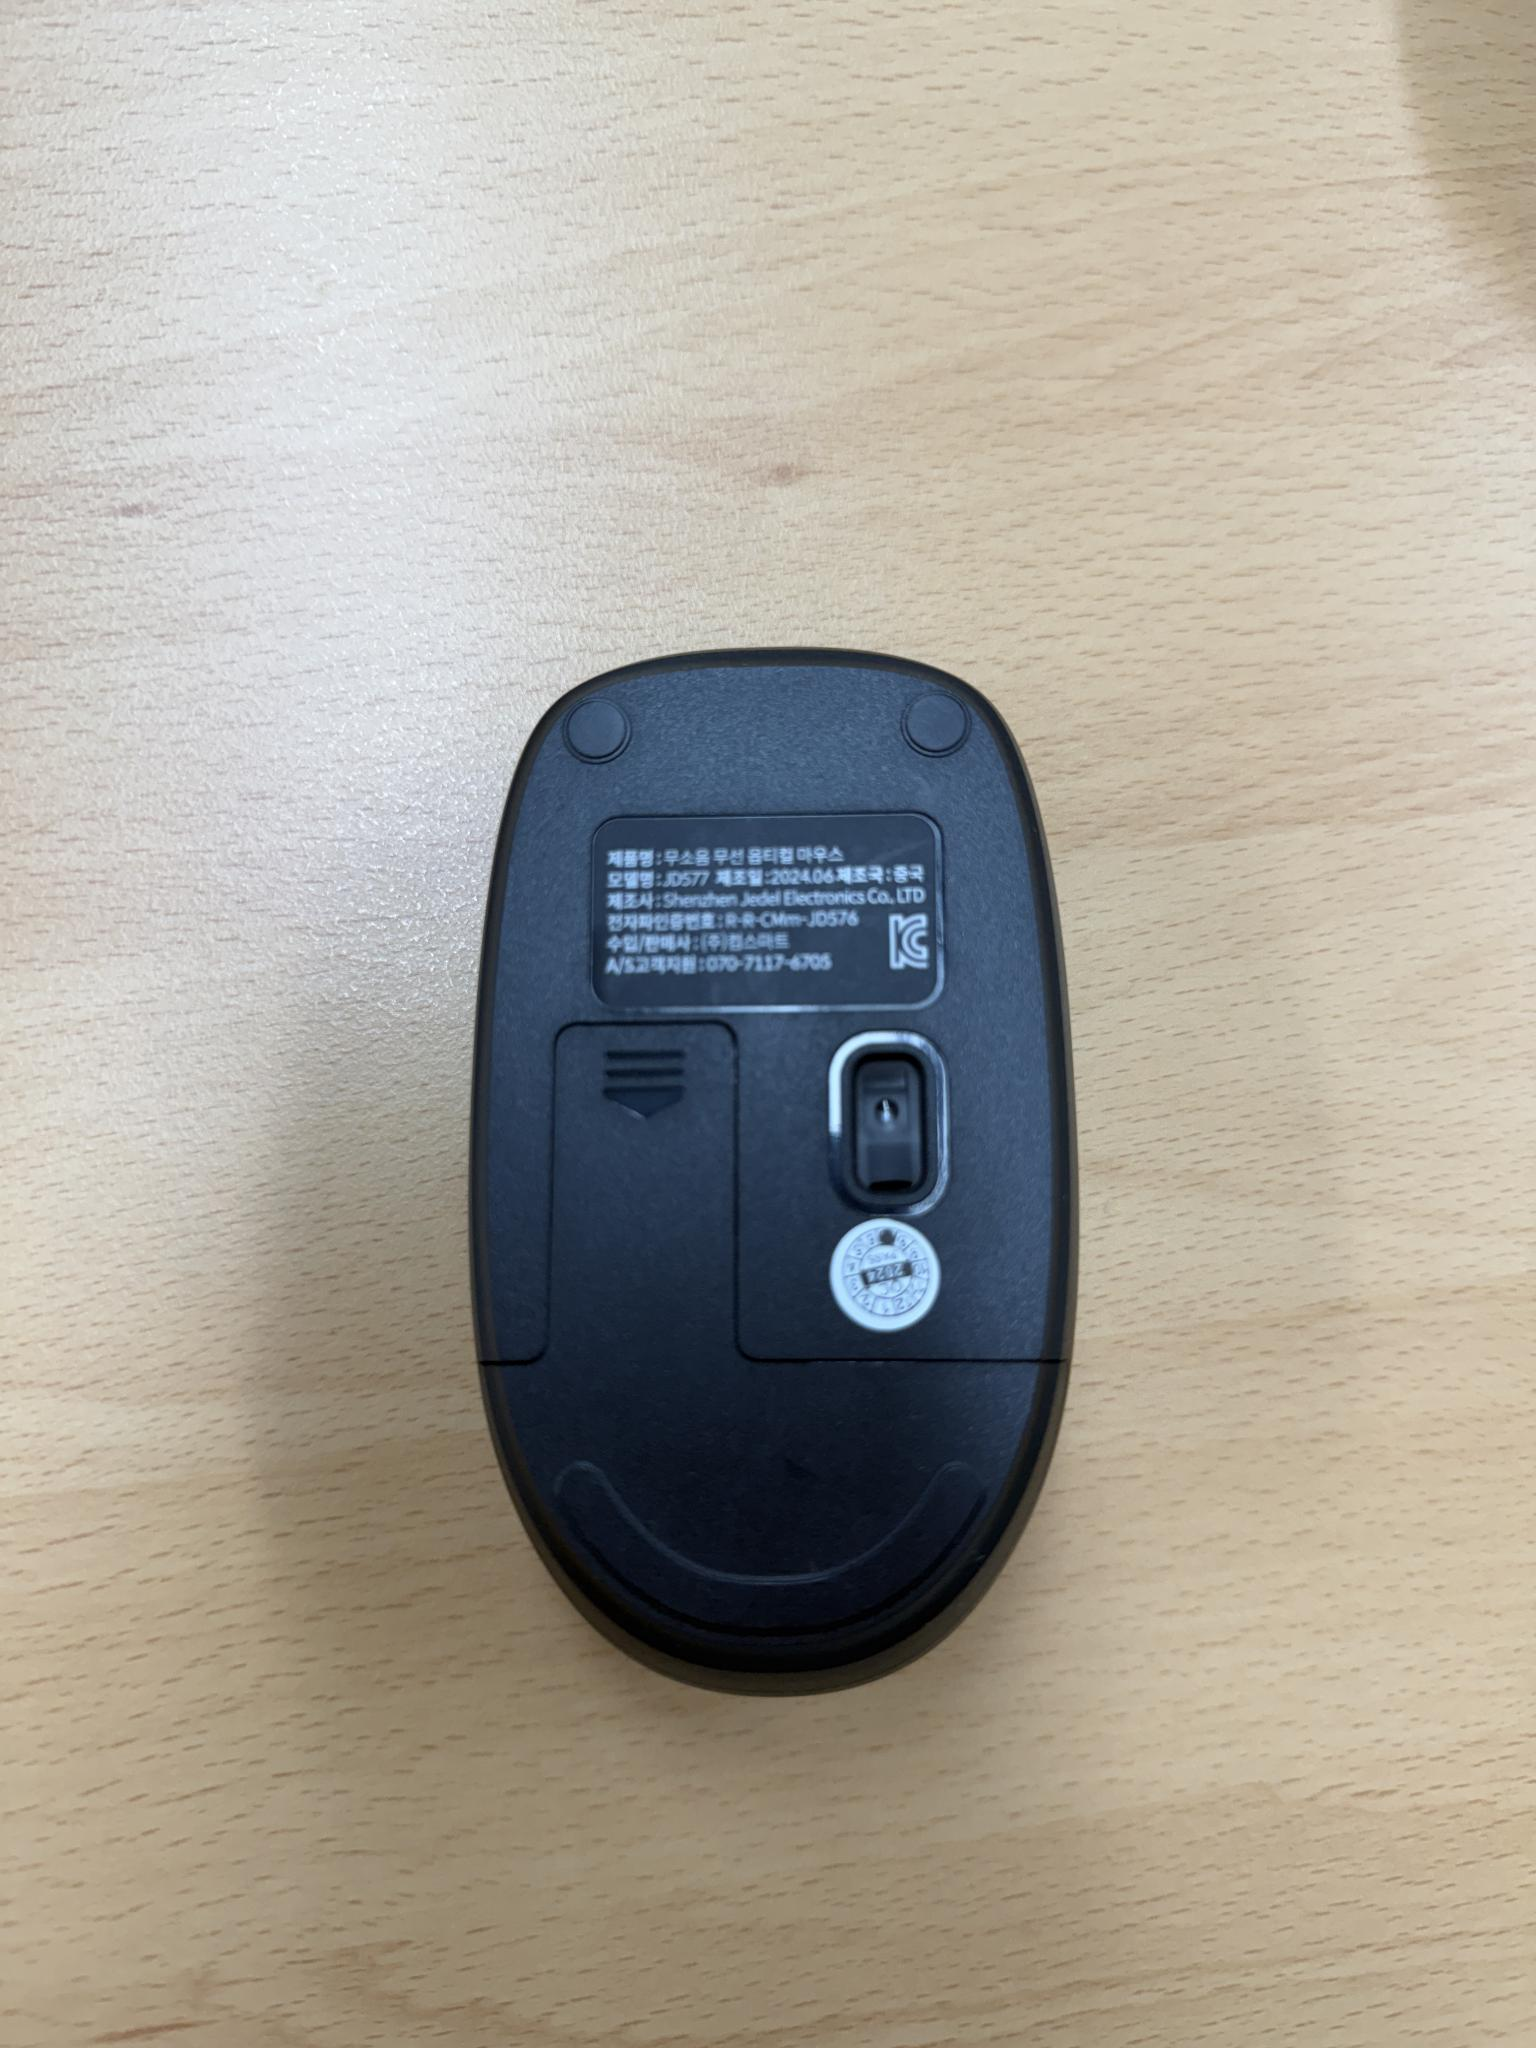back: (460, 637, 1084, 1699)
